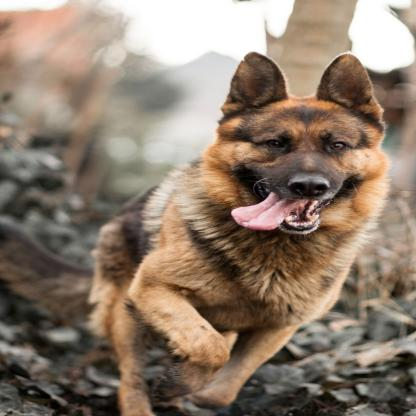dog: (80, 52, 395, 416)
